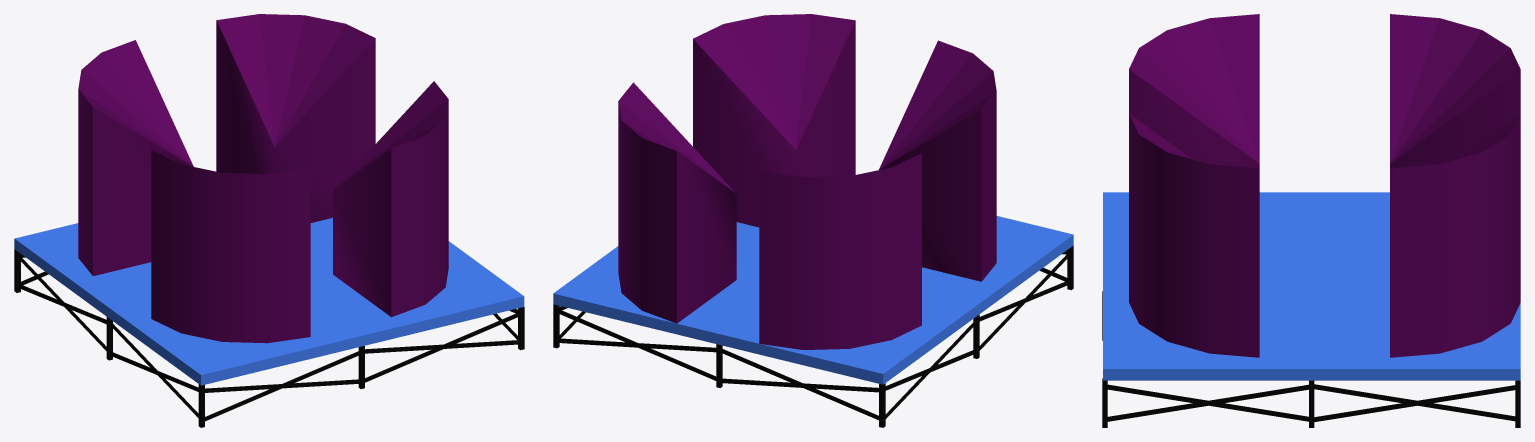
Rendered from Electrolysis.obj.
3 views of the same model, side by side, from view 1: azimuth 30°, elevation 25°; view 2: azimuth 150°, elevation 25°; view 3: azimuth 270°, elevation 25° (orthographic). The views are drawn at different scales.
Parts seen in each view (by area): view 1: Electrolysis; view 2: Electrolysis; view 3: Electrolysis.
Part boxes in pixels (box(x1,y1,x2,y2)): Electrolysis: box(14, 14, 524, 427); Electrolysis: box(553, 14, 1073, 427); Electrolysis: box(1102, 14, 1520, 427).
Size of the model in its own units: 8 by 5.25 by 8.01.
